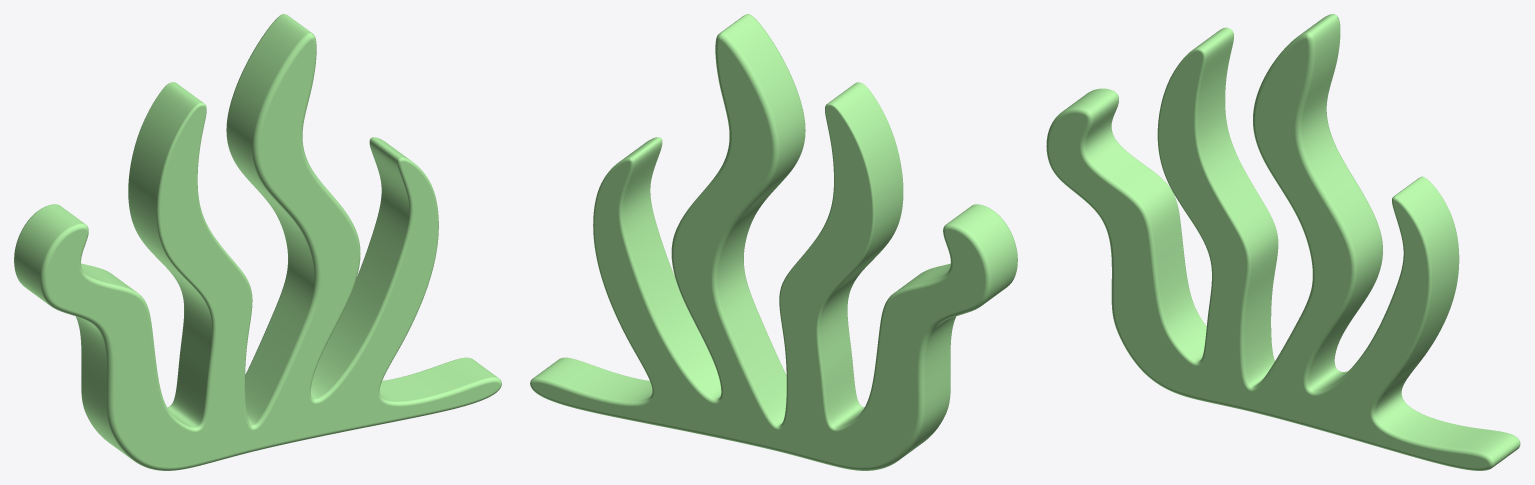
Rendered from alga.dae.
3 renders of one model, left to right at view 1: azimuth 30°, elevation 25°; view 2: azimuth 150°, elevation 25°; view 3: azimuth 330°, elevation 25°, orthographic. The views are drawn at different scales.
Parts seen in each view (by area): view 1: Brep; view 2: Brep; view 3: Brep.
Part boxes in pixels (box(x1,y1,x2,y2)): Brep: box(14, 14, 501, 470); Brep: box(530, 14, 1017, 470); Brep: box(1046, 14, 1520, 470).
Size of the model in its own units: 279 by 238 by 32.06.
